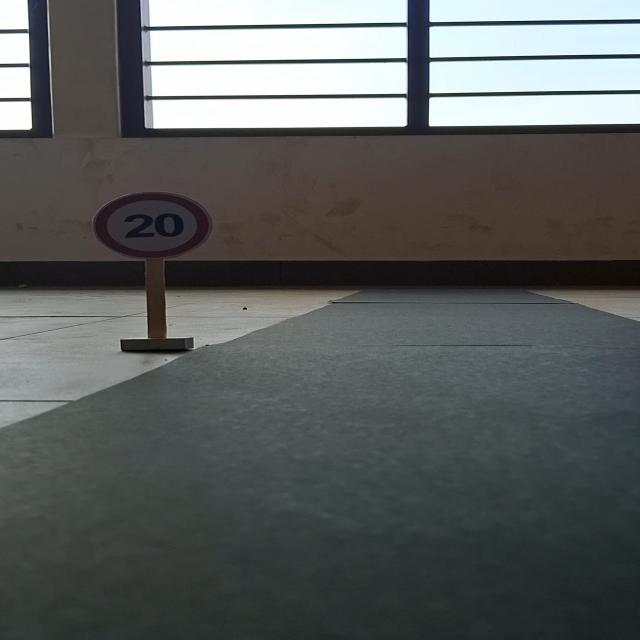Speed20: (85, 186, 219, 264)
